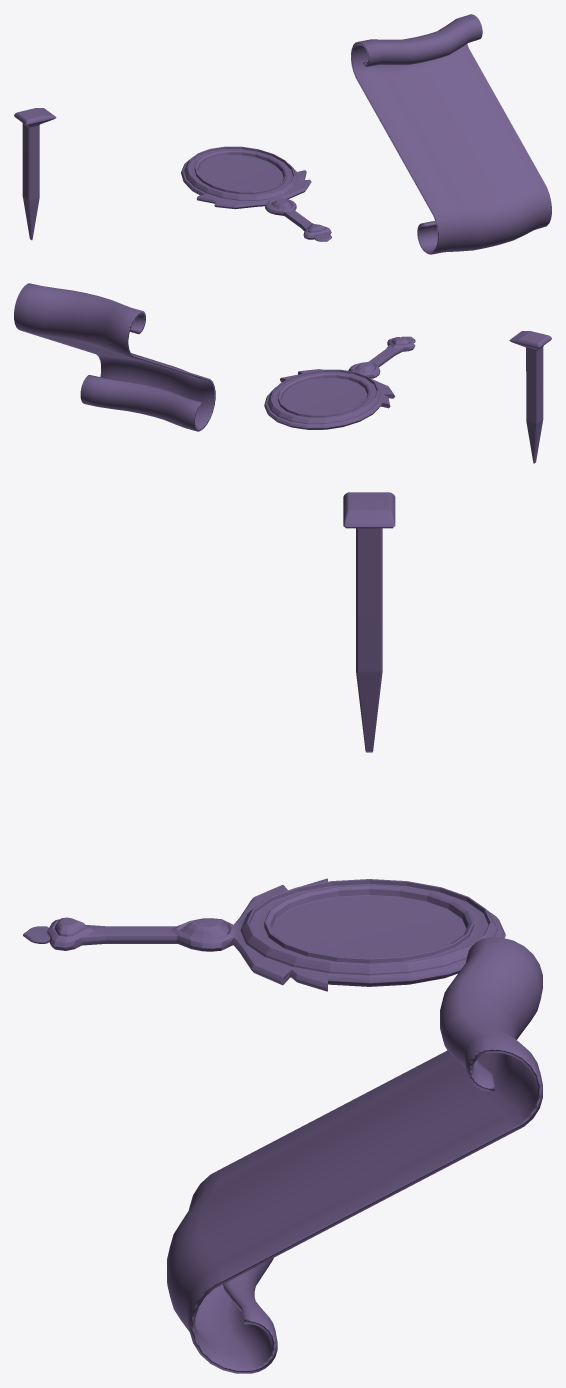
File: Relics.fbx
3 renders of one model, top to bottom at view 1: azimuth 30°, elevation 25°; view 2: azimuth 150°, elevation 25°; view 3: azimuth 270°, elevation 25°, orthographic. The views are drawn at different scales.
Visible parts, largest first — view 1: parchment, MIRROR_beved, Spike; view 2: parchment, MIRROR_beved, Spike; view 3: parchment, MIRROR_beved, Spike.
Boxes of the visible parts, x1=… form: parchment: x1=351, y1=14, x2=551, y2=254; MIRROR_beved: x1=181, y1=146, x2=331, y2=241; Spike: x1=14, y1=108, x2=56, y2=240; parchment: x1=14, y1=283, x2=215, y2=431; MIRROR_beved: x1=264, y1=336, x2=415, y2=429; Spike: x1=509, y1=331, x2=551, y2=463; parchment: x1=167, y1=937, x2=542, y2=1373; MIRROR_beved: x1=23, y1=878, x2=505, y2=991; Spike: x1=343, y1=492, x2=395, y2=752.
Bounding box in the file's own units: 2.32 × 0.9372 × 1.07.
